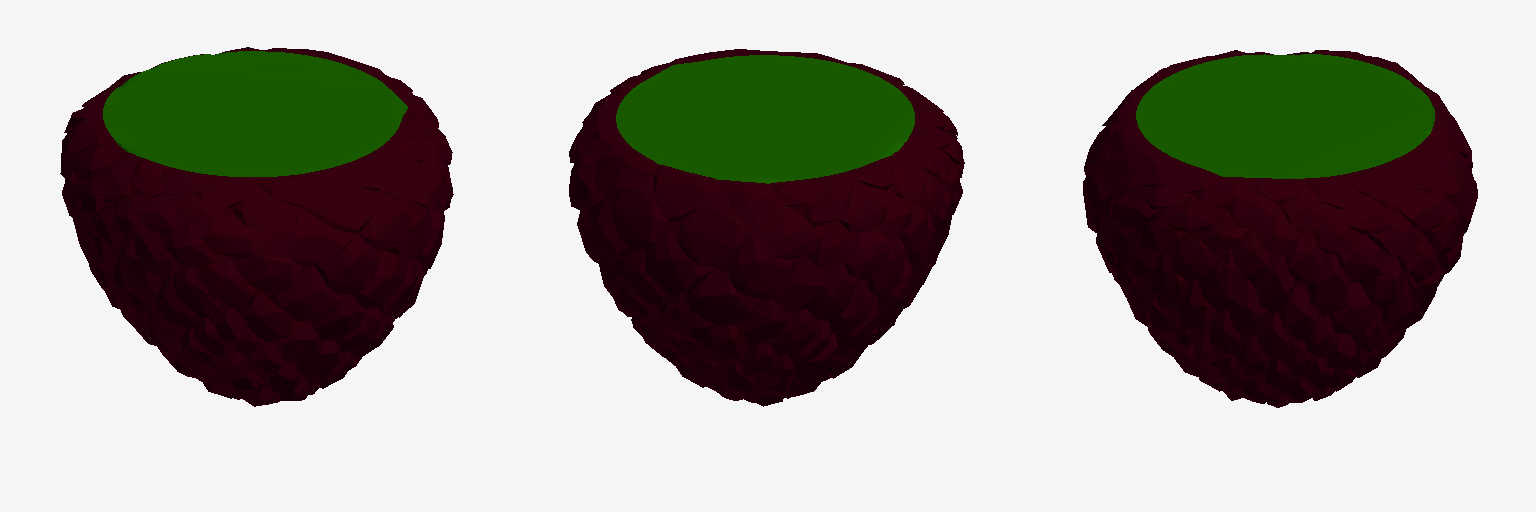
The model's file is good_fruit.obj.
3 renders of one model, left to right at view 1: azimuth 30°, elevation 25°; view 2: azimuth 150°, elevation 25°; view 3: azimuth 270°, elevation 25°, orthographic.
Parts seen in each view (by area): view 1: Good_Fruit.001; view 2: Good_Fruit.001; view 3: Good_Fruit.001.
Part boxes in pixels (x1,y1,x2,y2): Good_Fruit.001: (60,47,453,406); Good_Fruit.001: (569,49,964,406); Good_Fruit.001: (1083,50,1477,407).
Size of the model in its own units: 0.0965 by 0.0763 by 0.0971.